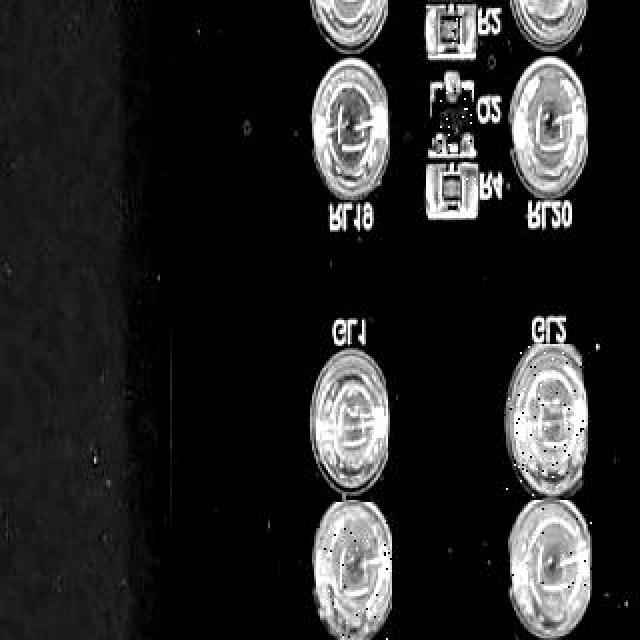Mosfet: (432, 88, 474, 152)
Register: (434, 10, 466, 54), (436, 172, 468, 206)
Soldering: (460, 162, 480, 210), (424, 6, 440, 54), (428, 168, 442, 214), (462, 8, 476, 54)
led: (504, 342, 584, 496), (510, 500, 592, 636), (314, 500, 392, 640)
